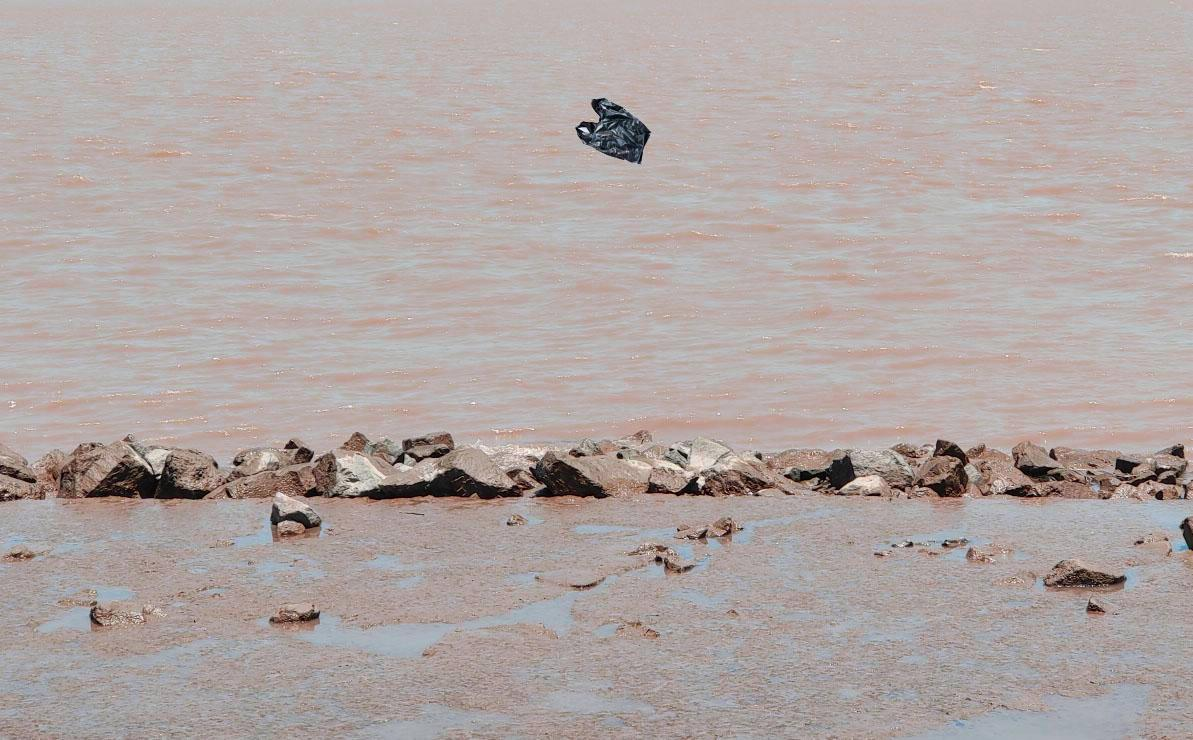Trash: (574, 95, 653, 168)
